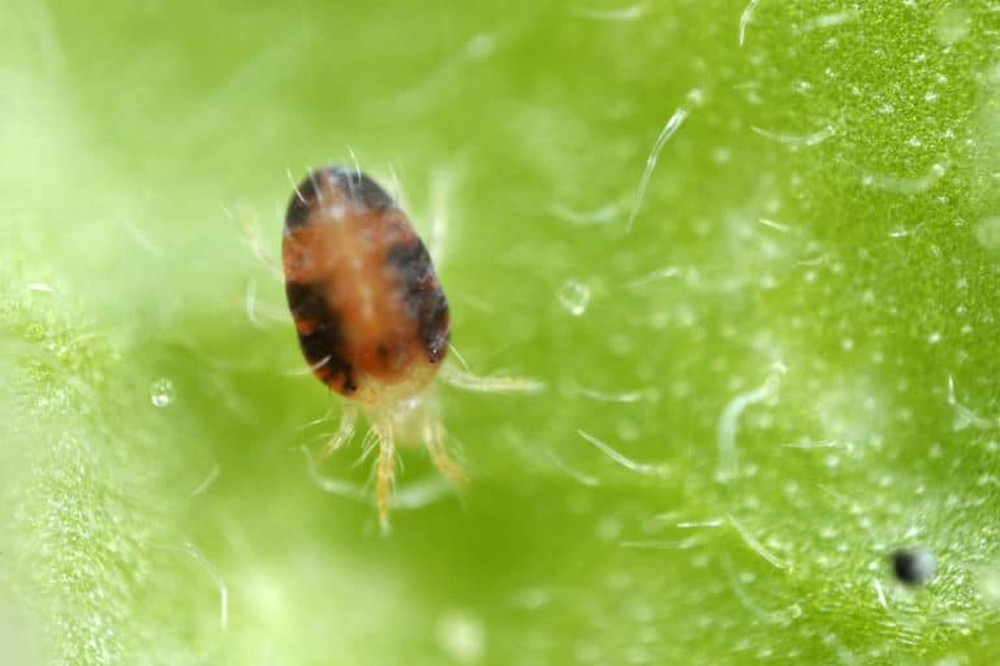Aracnido Rojo: (209, 145, 550, 536)
